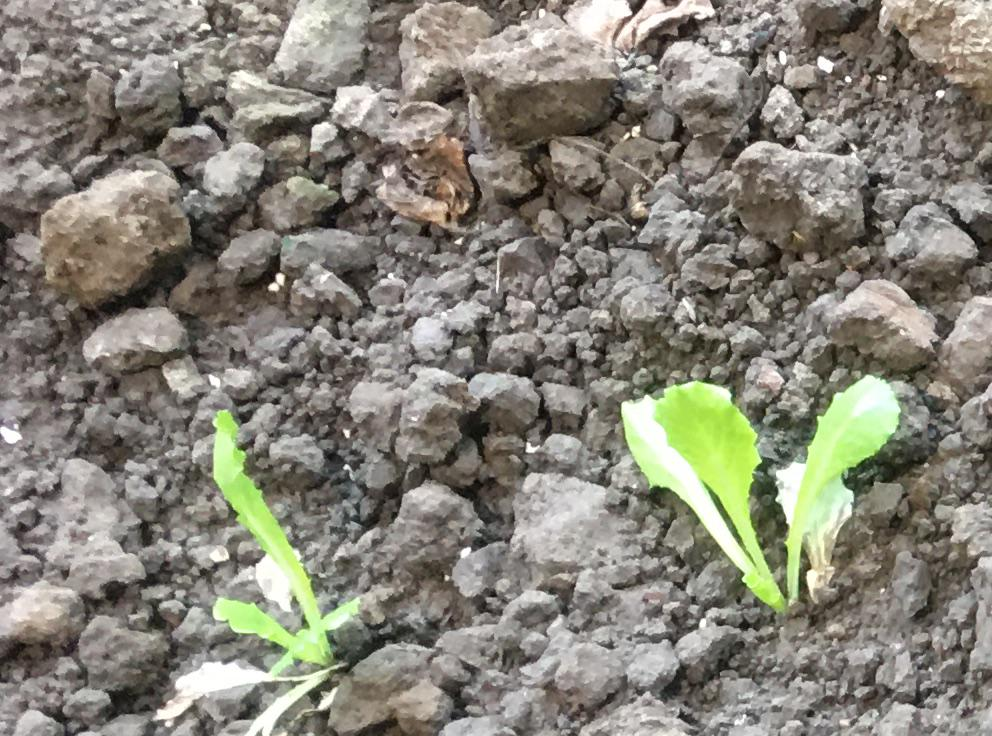block: (39, 169, 192, 305), (463, 20, 617, 147), (727, 140, 868, 257), (47, 454, 147, 590), (828, 275, 935, 366), (272, 1, 370, 96)
